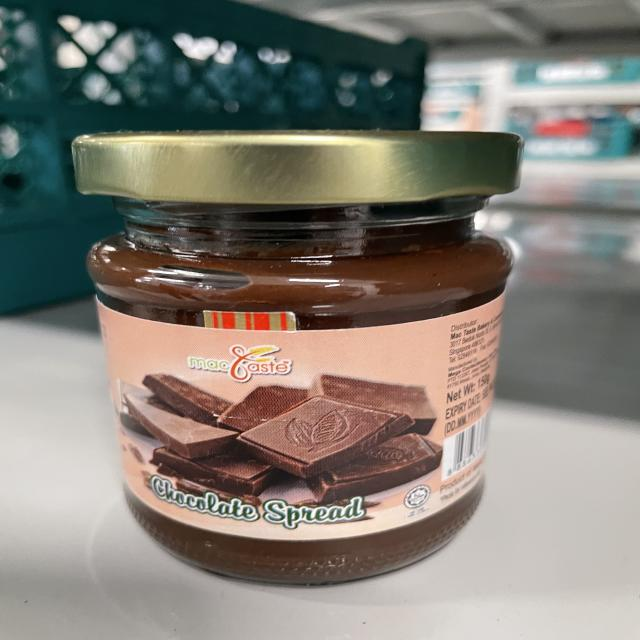object_name: (82, 135, 516, 584)
